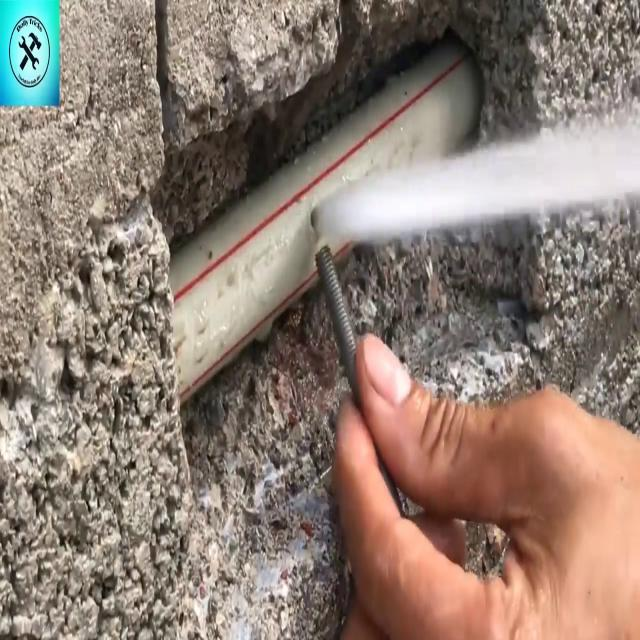leak: (312, 115, 640, 240)
